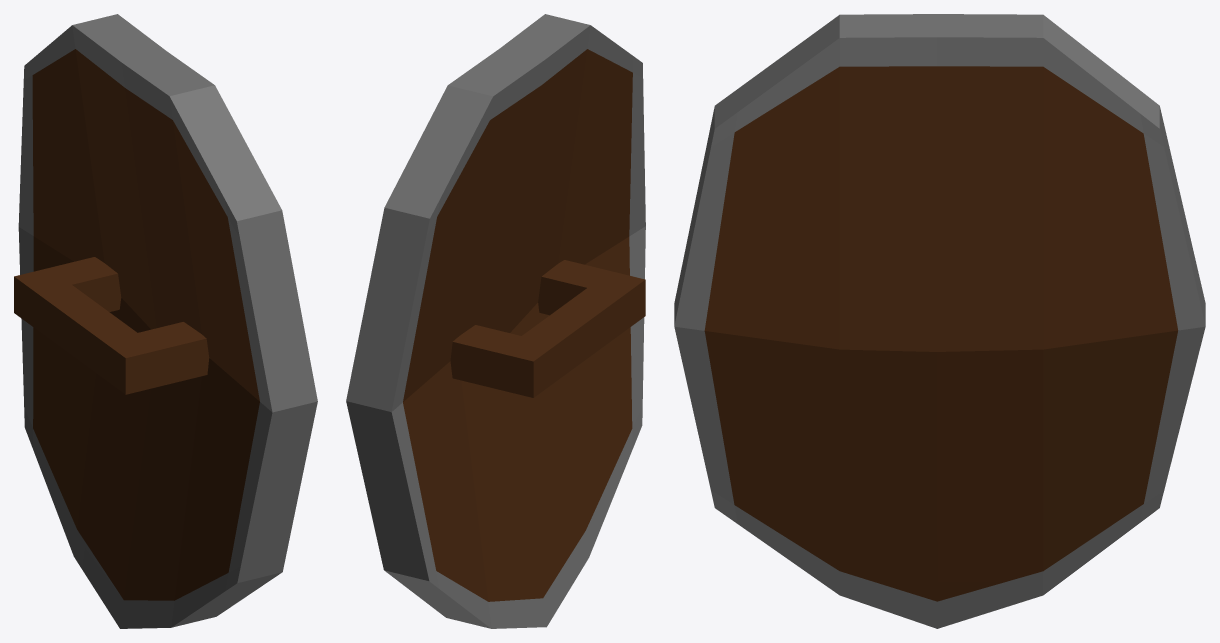
Rendered from enemyShield_Mesh.fbx.
The picture shows the model from 3 angles, left to right: view 1: azimuth 30°, elevation 25°; view 2: azimuth 150°, elevation 25°; view 3: azimuth 270°, elevation 25°; orthographic projection. The views are drawn at different scales.
Visible parts, largest first — view 1: EnemyShield; view 2: EnemyShield; view 3: EnemyShield.
Boxes of the visible parts, x1,y1,x2,y2 form: EnemyShield: (14,14,317,628); EnemyShield: (346,14,645,628); EnemyShield: (674,14,1205,628).
Size of the model in its own units: 17.64 by 73.6 by 59.81.
